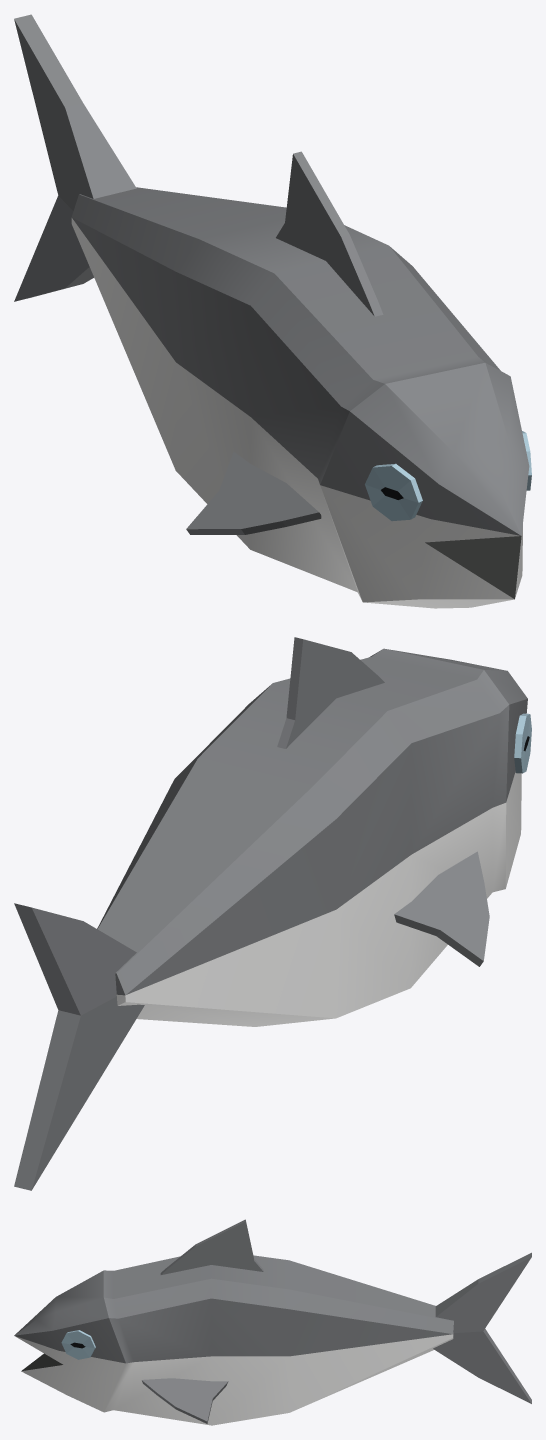
Rendered from fish1.fbx.
3 views of the same model, one above another, from view 1: azimuth 30°, elevation 25°; view 2: azimuth 150°, elevation 25°; view 3: azimuth 270°, elevation 25° (orthographic). The views are drawn at different scales.
Visible parts, largest first — view 1: fish1; view 2: fish1; view 3: fish1.
Part boxes in pixels (<box>): fish1: <box>14,14,531,608</box>; fish1: <box>14,637,531,1190</box>; fish1: <box>14,1219,531,1425</box>.
Size of the model in its own units: 96.92 by 118 by 281.
1 material, 1 textured.
